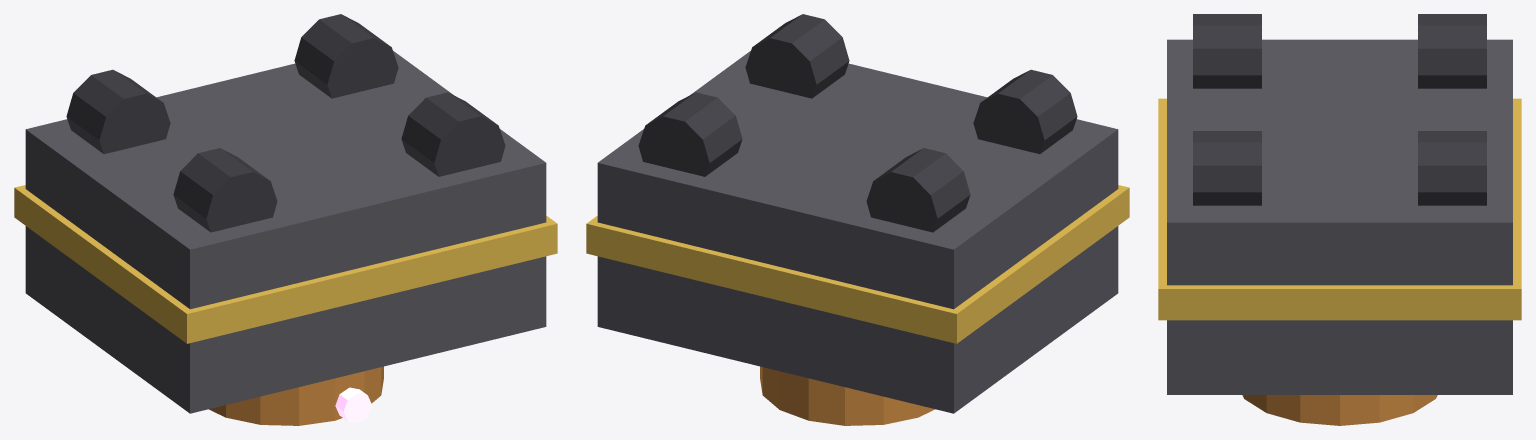
File: robot-carriage.glb
The picture shows the model from 3 angles, left to right: view 1: azimuth 30°, elevation 25°; view 2: azimuth 150°, elevation 25°; view 3: azimuth 270°, elevation 25°; orthographic projection. The views are drawn at different scales.
Parts seen in each view (by area): view 1: vantor_s0, vantor_s-1; view 2: vantor_s0, vantor_s-1; view 3: vantor_s0, vantor_s-1.
Part boxes in pixels (left/top/right/bottom): vantor_s0: left=14, top=51, right=557, bottom=425; vantor_s-1: left=66, top=14, right=398, bottom=154; vantor_s0: left=586, top=14, right=1129, bottom=413; vantor_s-1: left=586, top=92, right=970, bottom=425; vantor_s0: left=1158, top=14, right=1521, bottom=425; vantor_s-1: left=1340, top=14, right=1486, bottom=425.
Bounding box in the file's own units: 0.52 × 0.3876 × 0.42.
